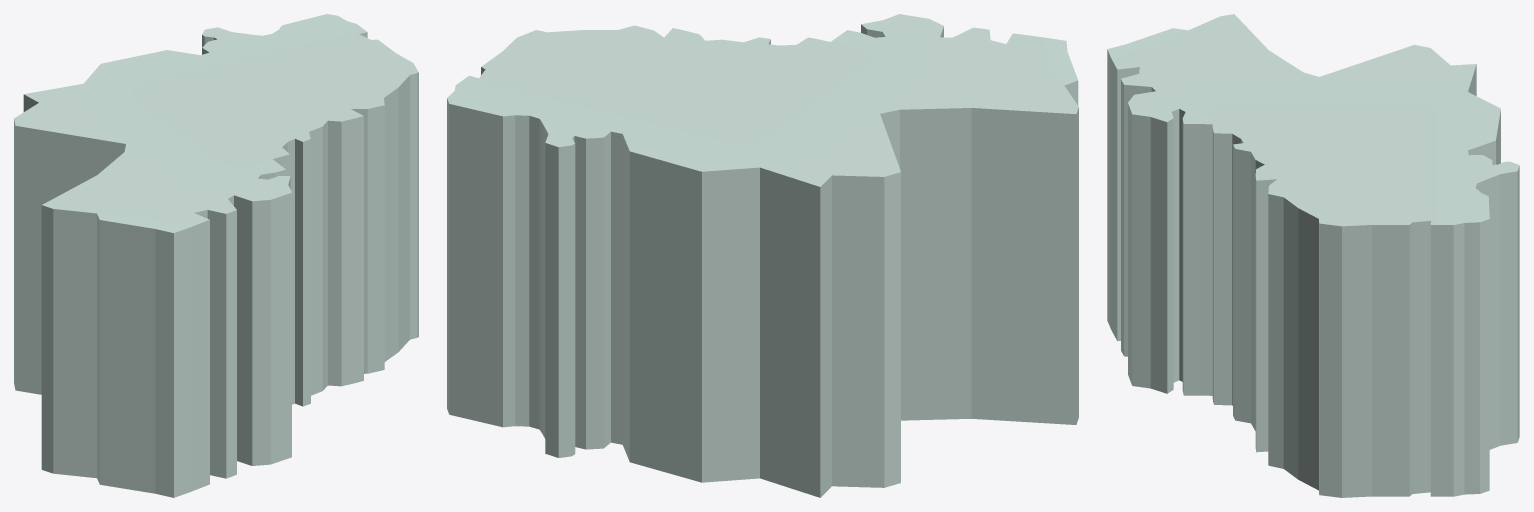
File: rumson.glb
The picture shows the model from 3 angles, left to right: view 1: azimuth 30°, elevation 25°; view 2: azimuth 150°, elevation 25°; view 3: azimuth 270°, elevation 25°; orthographic projection. The views are drawn at different scales.
Visible parts, largest first — view 1: Plane.033; view 2: Plane.033; view 3: Plane.033.
Part boxes in pixels (x1,y1,x2,y2): Plane.033: (14, 14, 418, 497); Plane.033: (447, 14, 1078, 497); Plane.033: (1107, 14, 1519, 497).
Size of the model in its own units: 0.6465 by 0.3856 by 0.5304.
Materials: 1 (1 with a texture image).
